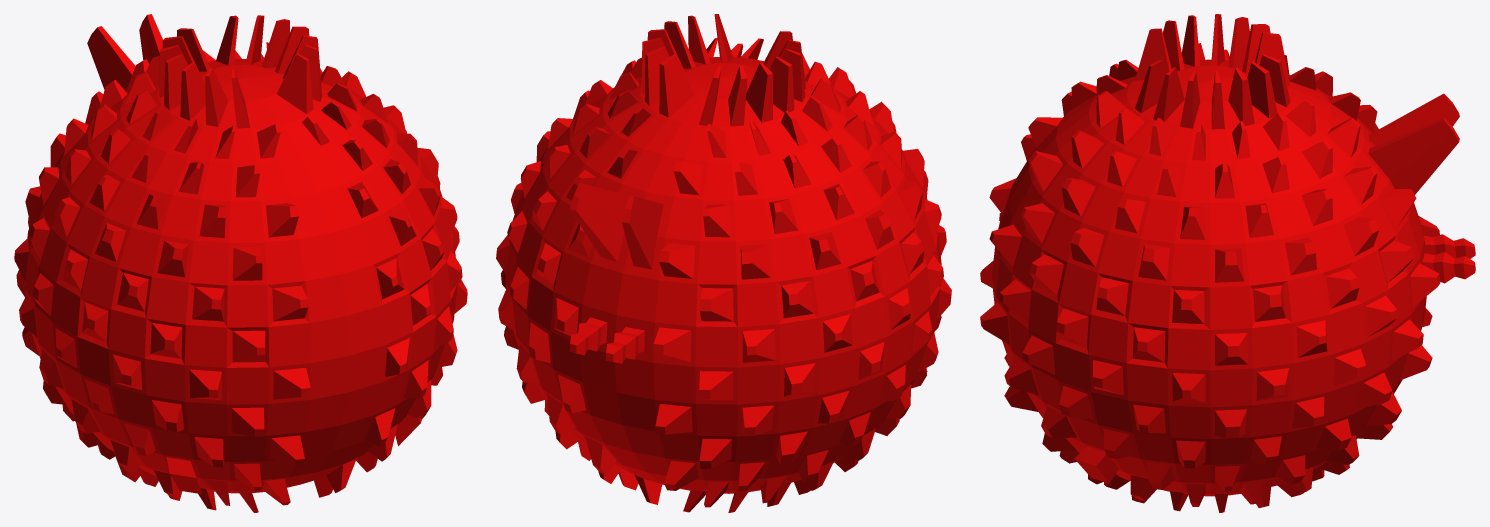
File: Virus_2.fbx
The picture shows the model from 3 angles, left to right: view 1: azimuth 30°, elevation 25°; view 2: azimuth 150°, elevation 25°; view 3: azimuth 270°, elevation 25°; orthographic projection.
Visible parts, largest first — view 1: Virus2; view 2: Virus2; view 3: Virus2.
Boxes of the visible parts, <box> form: Virus2: <box>14,14,467,512</box>; Virus2: <box>496,14,951,512</box>; Virus2: <box>980,14,1475,512</box>.
Bounding box in the file's own units: 206 × 218 × 227.
